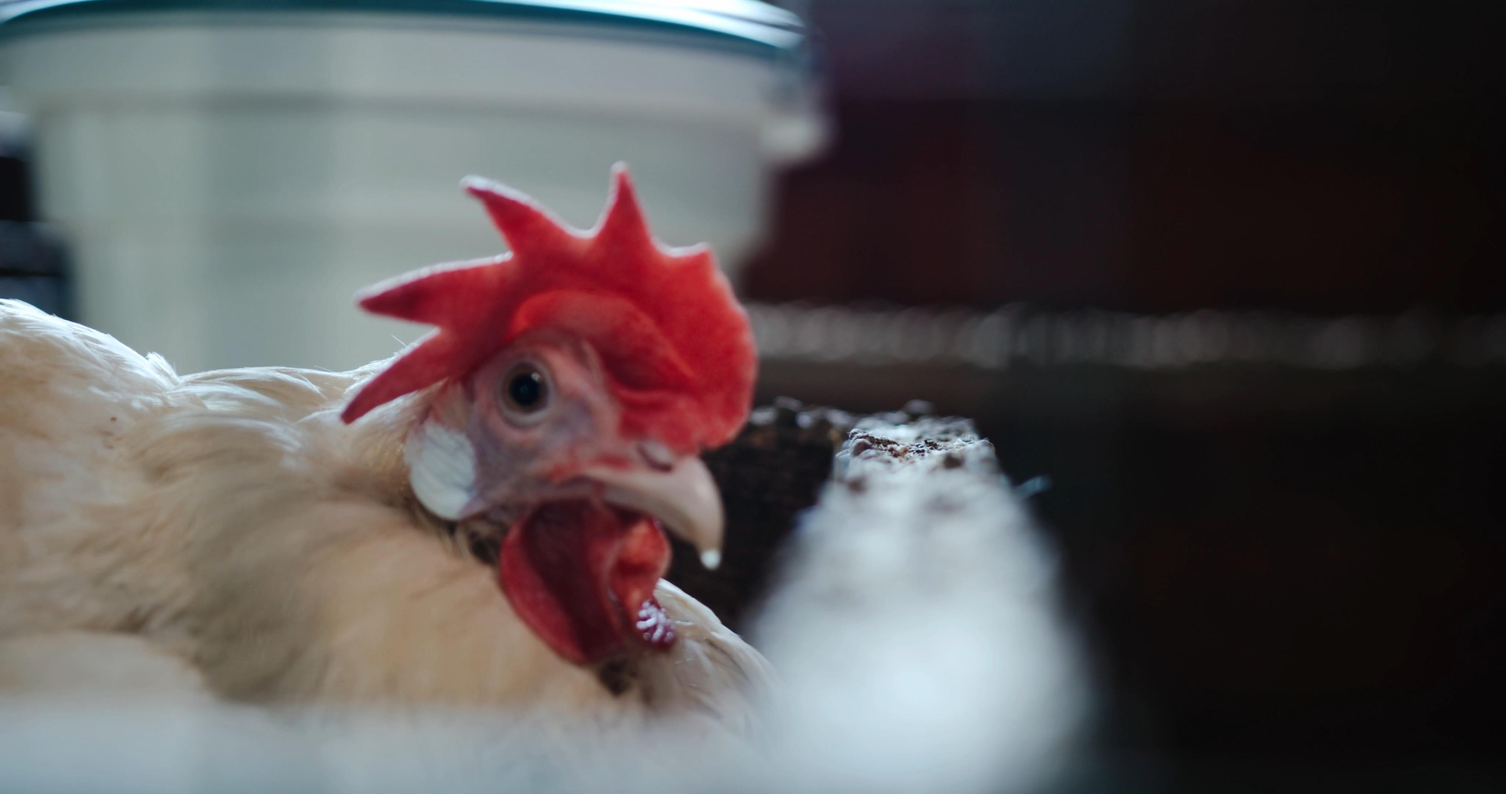Normal: (13, 177, 761, 677)
